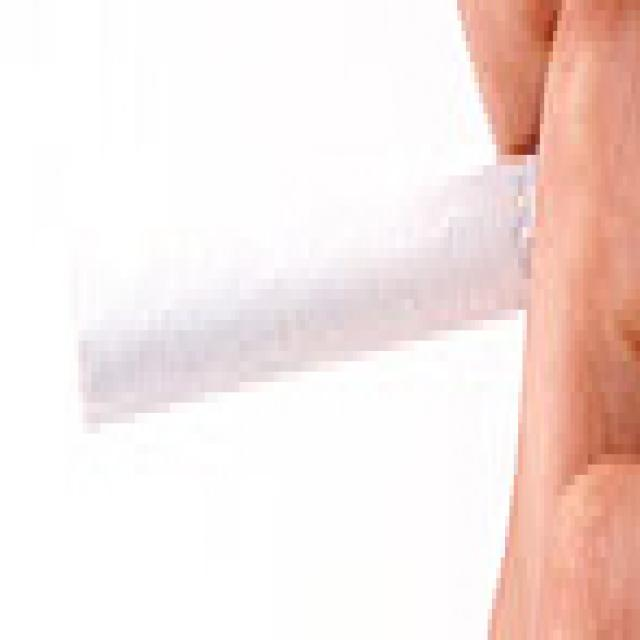smoking: (77, 158, 536, 420)
